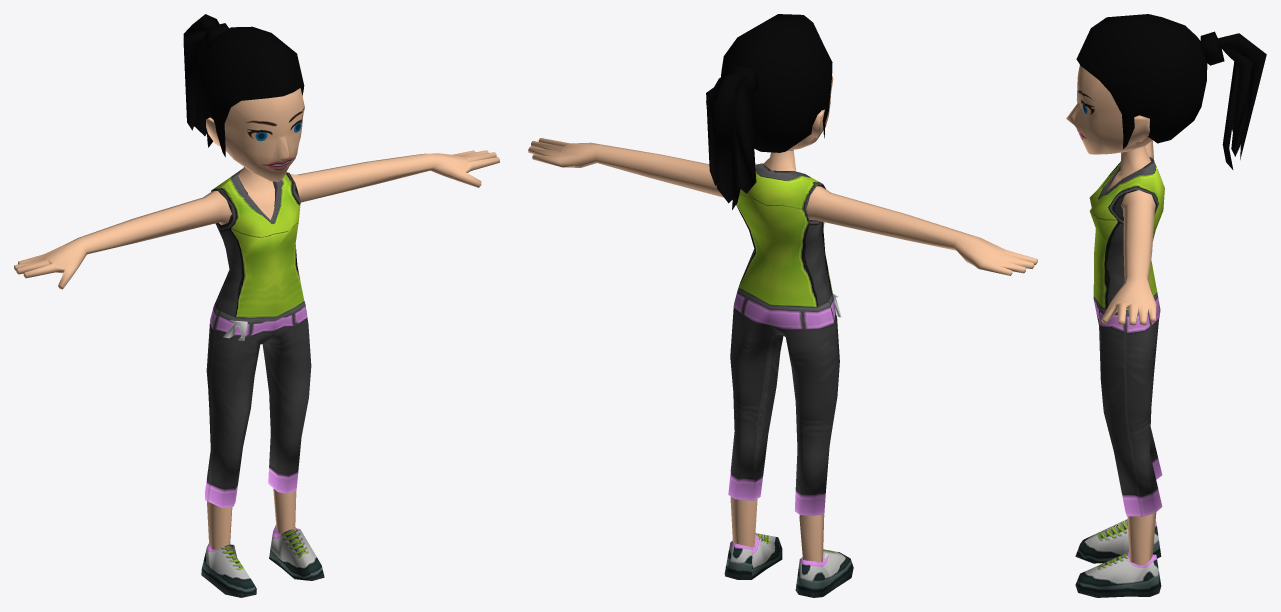
File: female.glb
3 renders of one model, left to right at view 1: azimuth 30°, elevation 25°; view 2: azimuth 150°, elevation 25°; view 3: azimuth 270°, elevation 25°, orthographic. The views are drawn at different scales.
Parts seen in each view (by area): view 1: F2_cloths.5, F2_armsHead.2, F2_hair.4; view 2: F2_cloths.5, F2_hair.4, F2_armsHead.2; view 3: F2_cloths.5, F2_hair.4, F2_armsHead.2.
Boxes of the visible parts, bbox=[...] form: F2_cloths.5: bbox=[201, 168, 324, 597]; F2_armsHead.2: bbox=[14, 88, 499, 549]; F2_hair.4: bbox=[183, 14, 304, 157]; F2_cloths.5: bbox=[724, 163, 853, 597]; F2_hair.4: bbox=[706, 14, 832, 209]; F2_armsHead.2: bbox=[528, 75, 1037, 562]; F2_cloths.5: bbox=[1075, 156, 1164, 597]; F2_hair.4: bbox=[1076, 14, 1266, 169]; F2_armsHead.2: bbox=[1066, 65, 1156, 565].
Bounding box in the file's own units: 1.62 × 1.72 × 0.5646.
4 materials, 4 textured.
